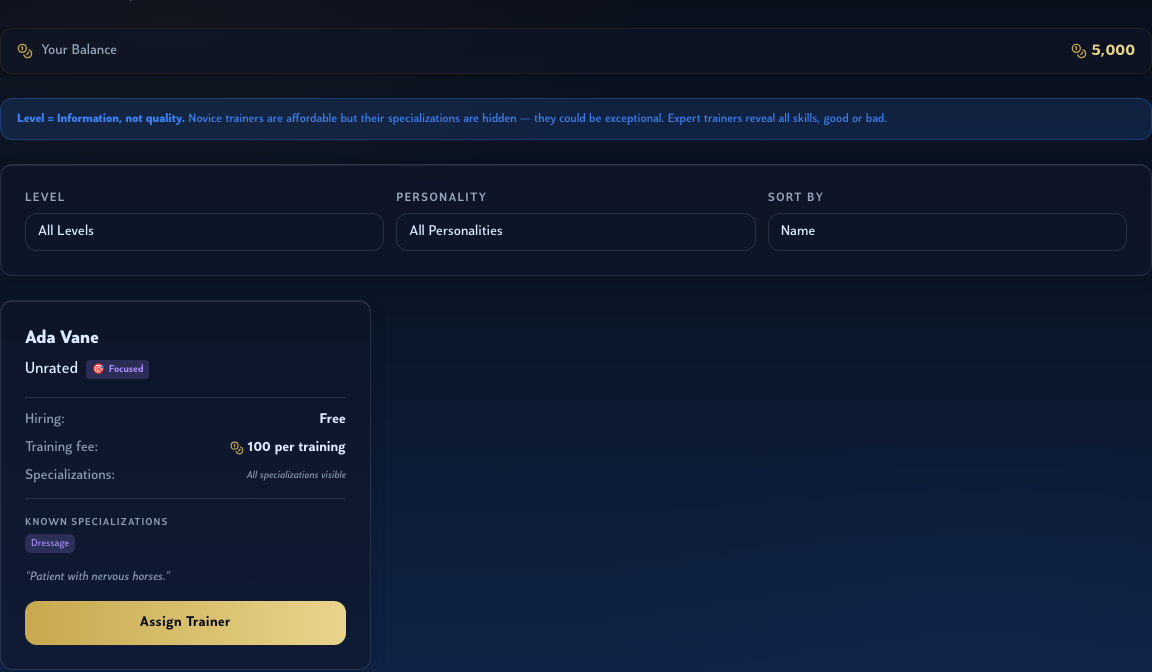
Scenario: TrainerList — Assign Trainer (Equoria-1poxi) › a refused request says so on the card, with no server text
Click the button with test id "hire-button-mk-1".
click(185, 623)  # box [25,601,346,645]
(page scrolled)
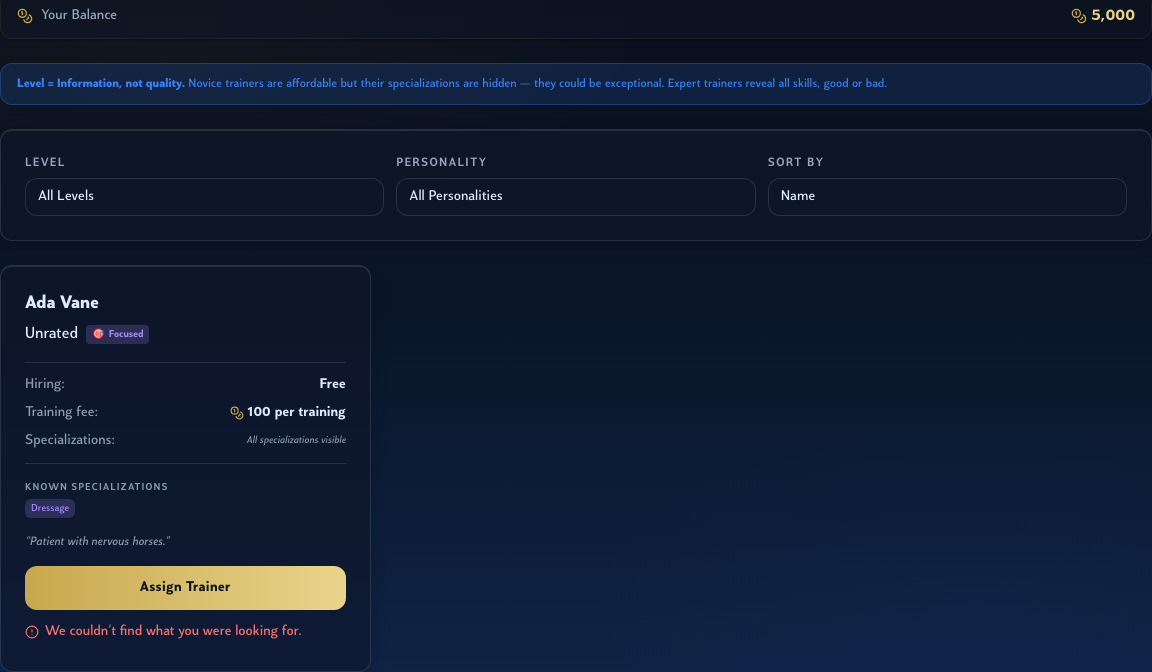
Check: the message "We couldn't find what you were looking for." is shown, box [25,622,302,642]
